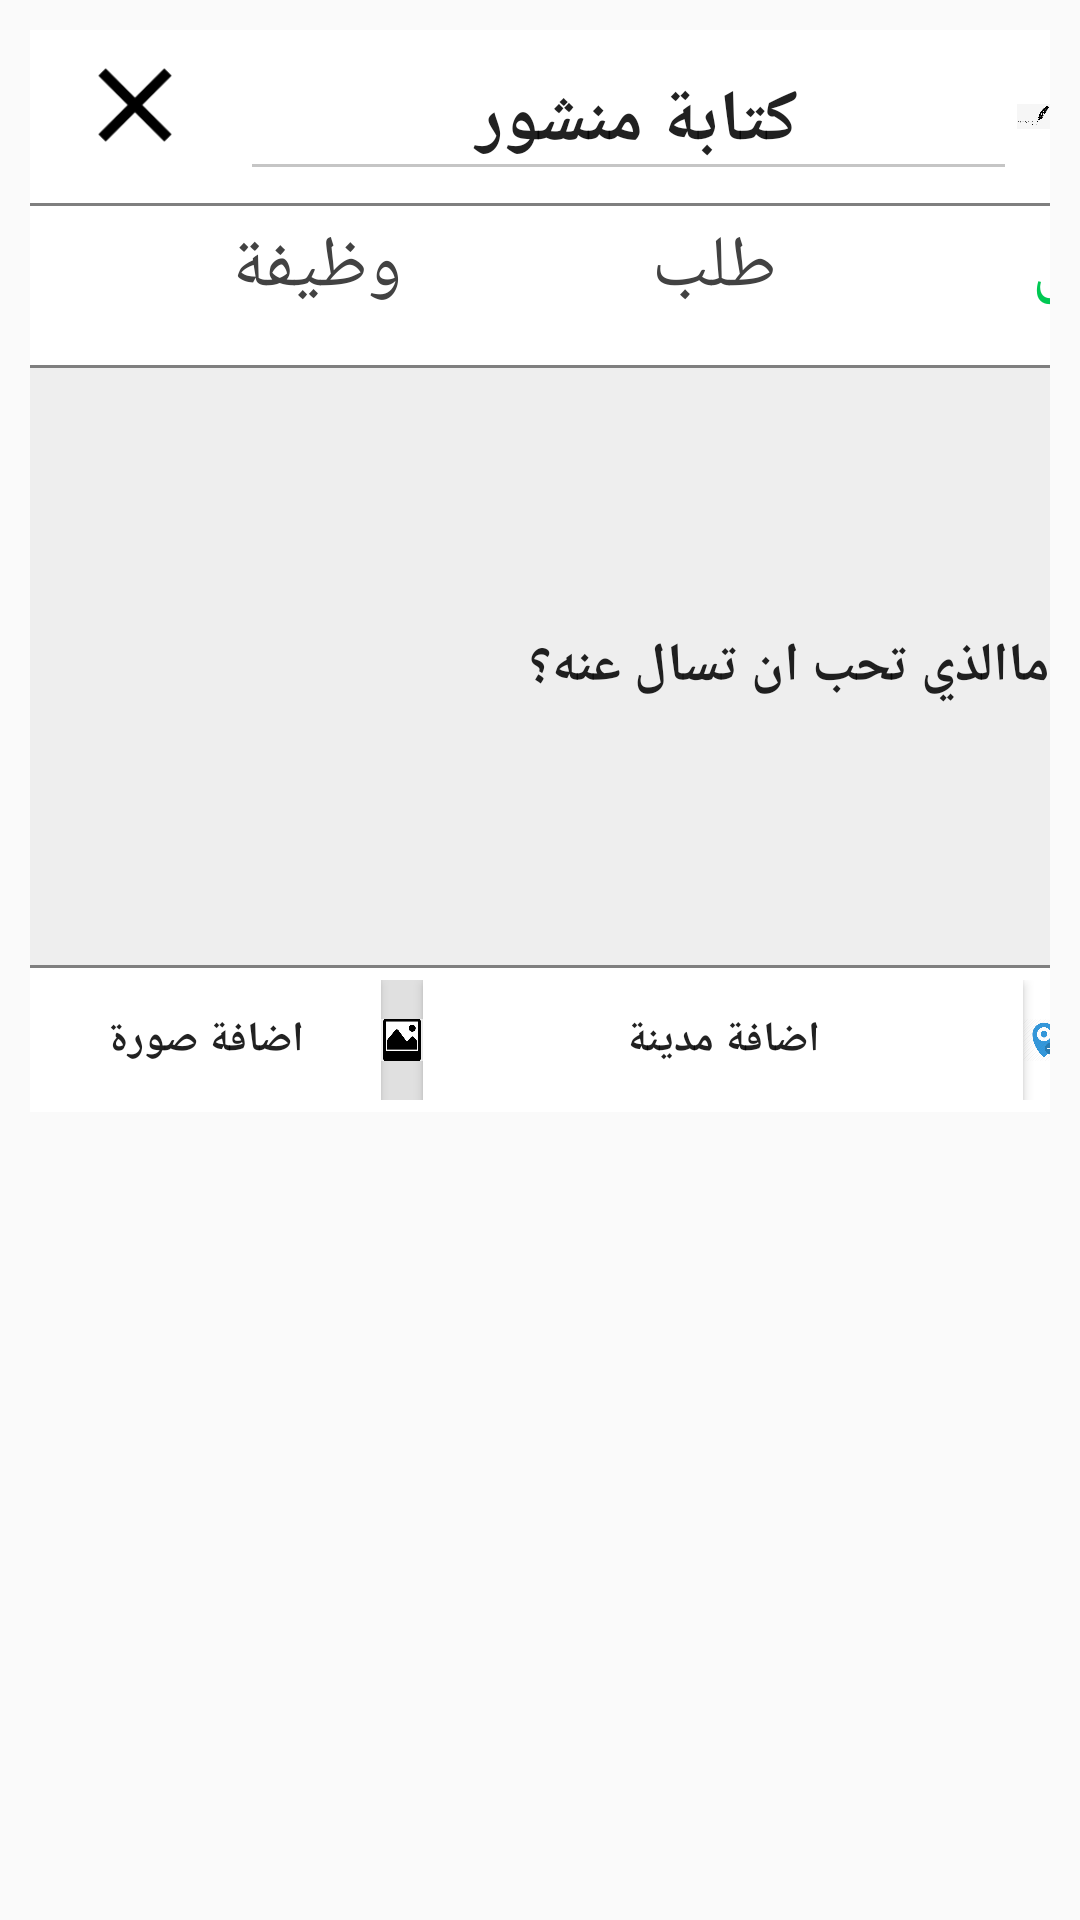

Point at icon controls on the screen. Image size 1080px x 1920px, points as point (x, y).
close: point (135, 105)
